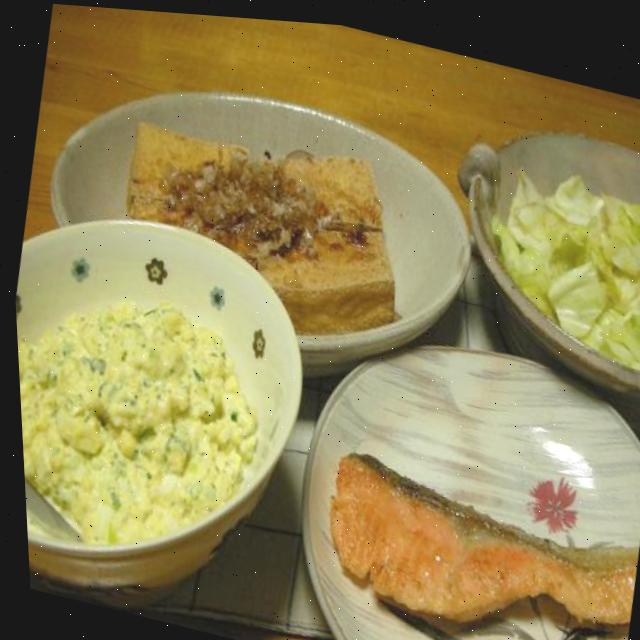熟制海鲜: (276, 408, 640, 640)
